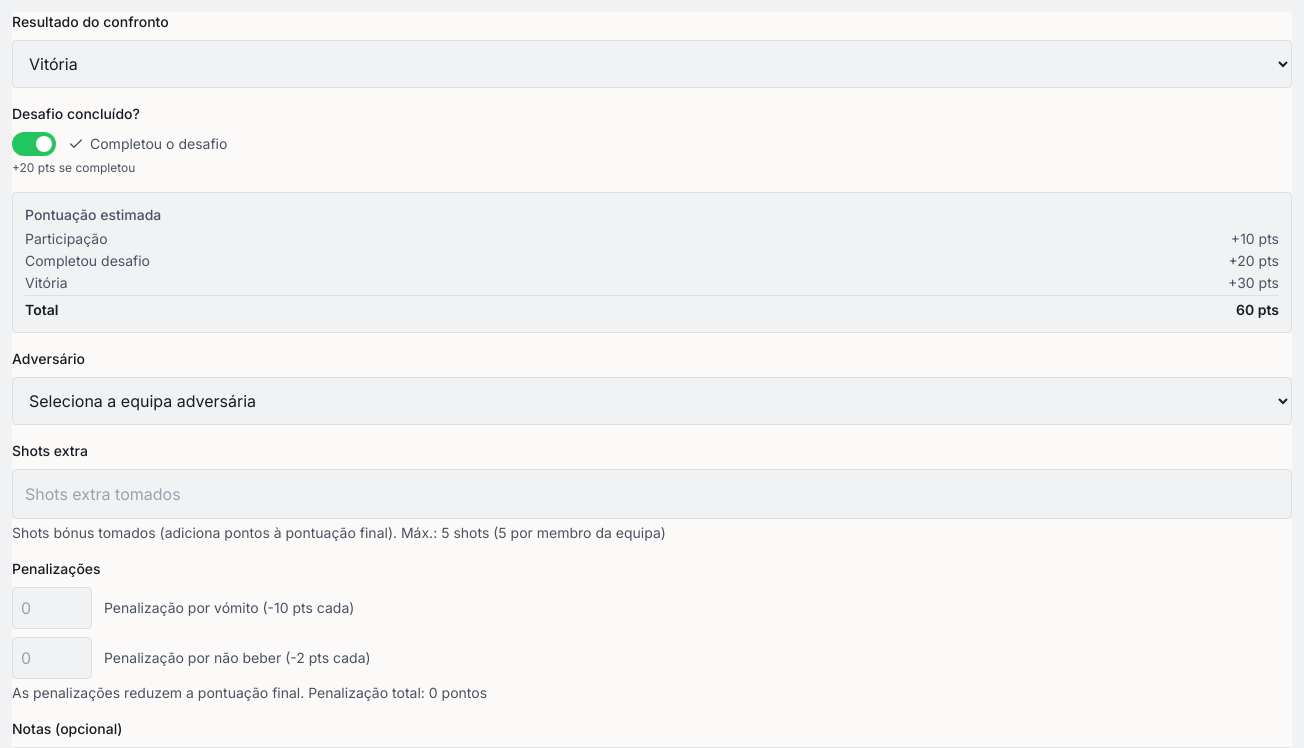
Test: TeamVsForm › updates completed state and score preview
The width and height of the screenshot is (1304, 748).
Expected: the text "60 pts" is shown, [1236,300,1279,320]
Note: Click toggle to turn off completed
Click the button with test id "toggle-completed" at (34, 144), box [12,132,56,156]
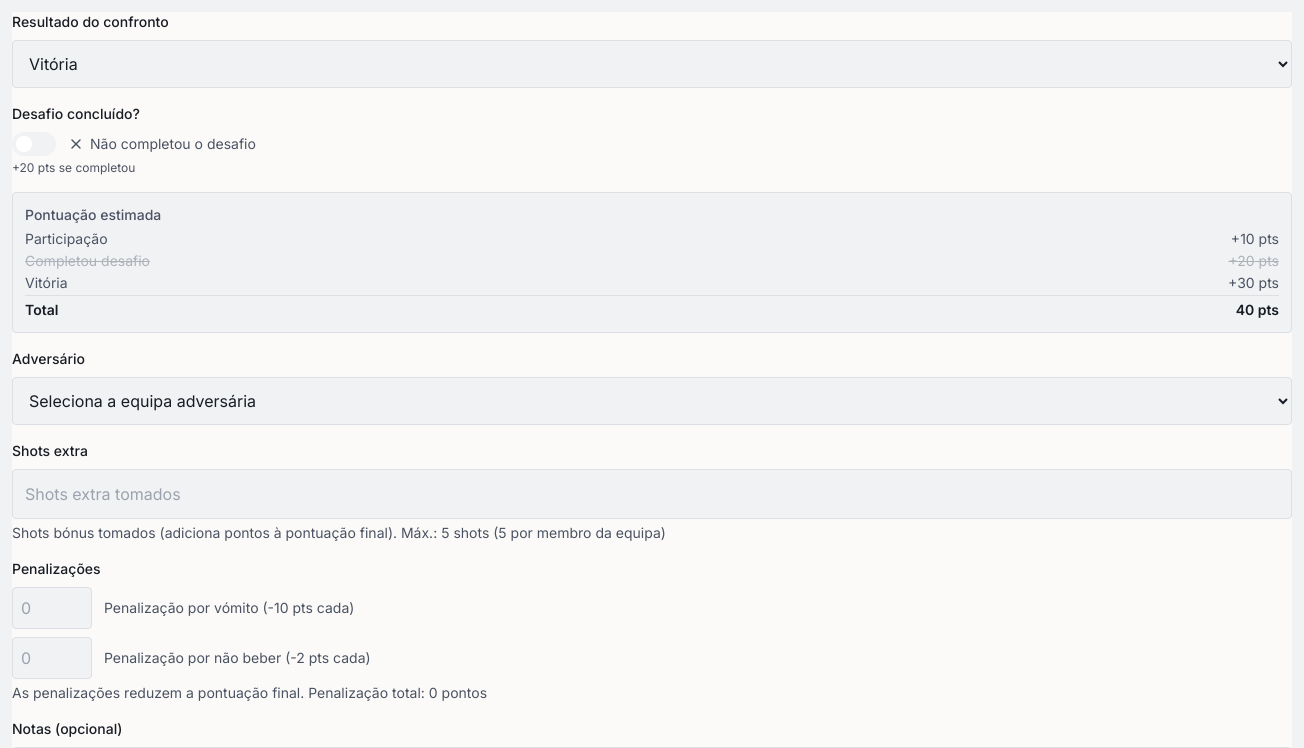
Now the text "Não completou o desafio" is shown, box [68,134,256,154]
Now the text "40 pts" is shown, box [1236,300,1279,320]
